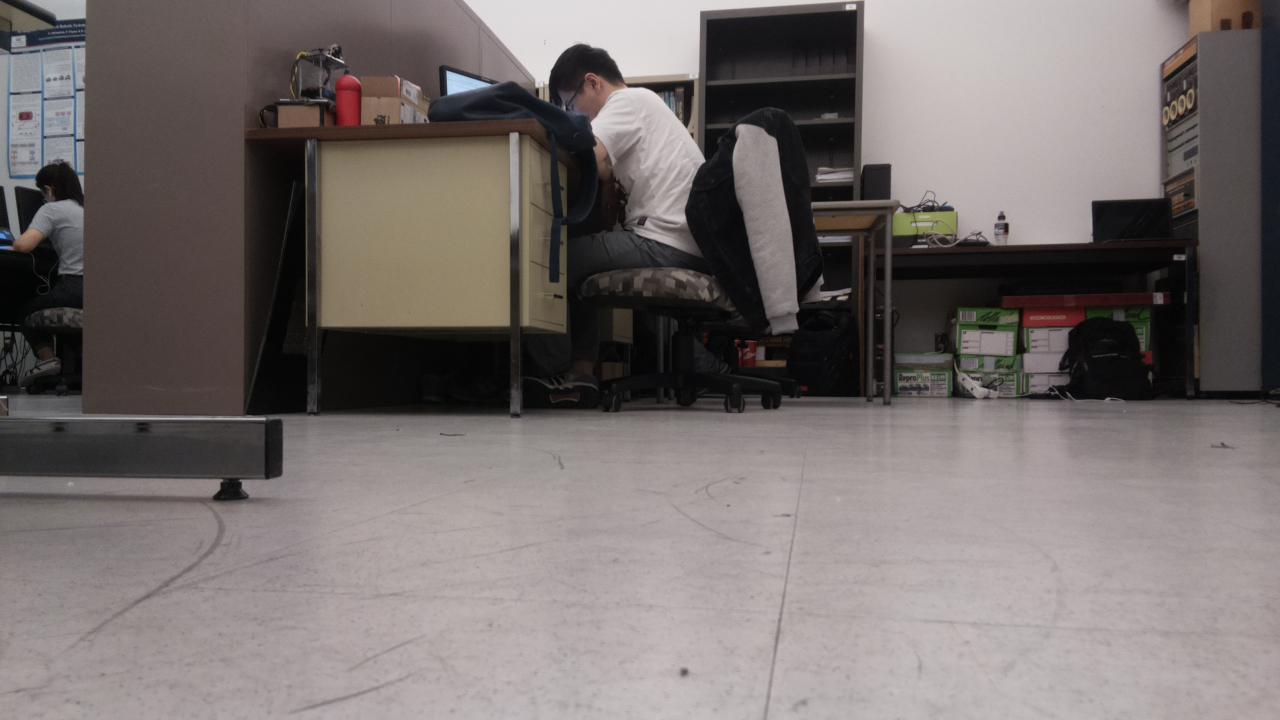person: (528, 42, 709, 409), (11, 163, 84, 398)
tvmonitor: (1093, 199, 1172, 242)
